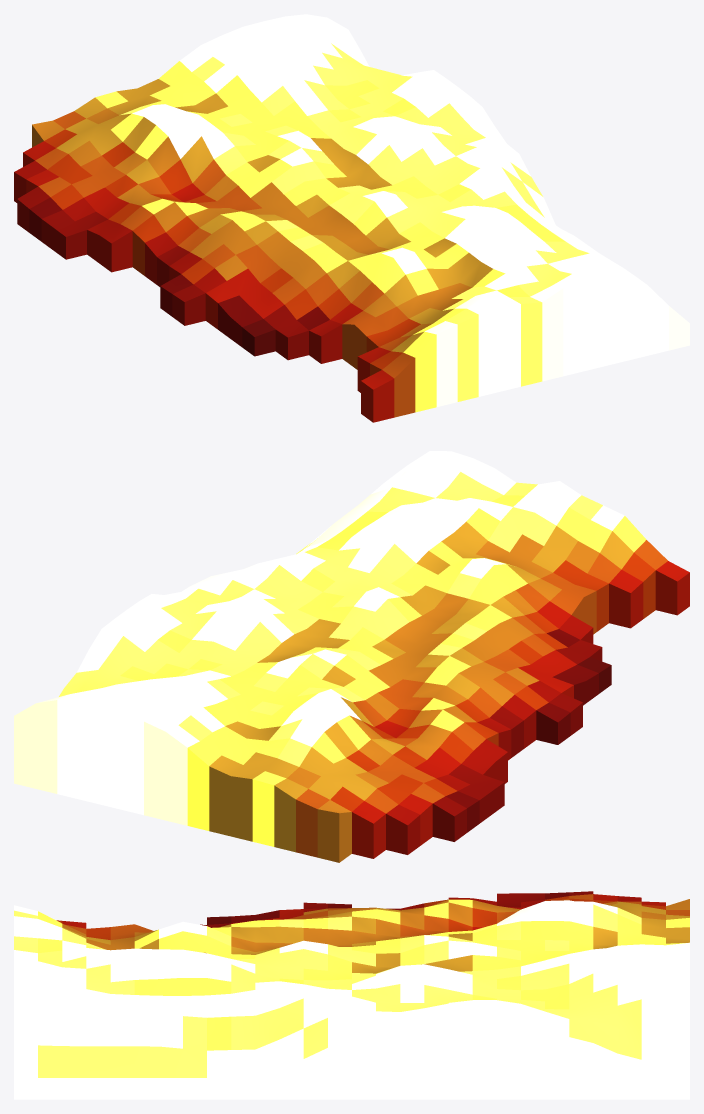
File: newshk-51.glb
3 renders of one model, top to bottom at view 1: azimuth 30°, elevation 25°; view 2: azimuth 150°, elevation 25°; view 3: azimuth 270°, elevation 25°, orthographic. The views are drawn at different scales.
Parts seen in each view (by area): view 1: newshk-51; view 2: newshk-51; view 3: newshk-51.
Part boxes in pixels (box(x1,y1,x2,y2)): newshk-51: box(14, 14, 689, 422); newshk-51: box(14, 451, 689, 862); newshk-51: box(14, 891, 689, 1099).
Bounding box in the file's own units: 1.5 × 0.3583 × 2.33.
